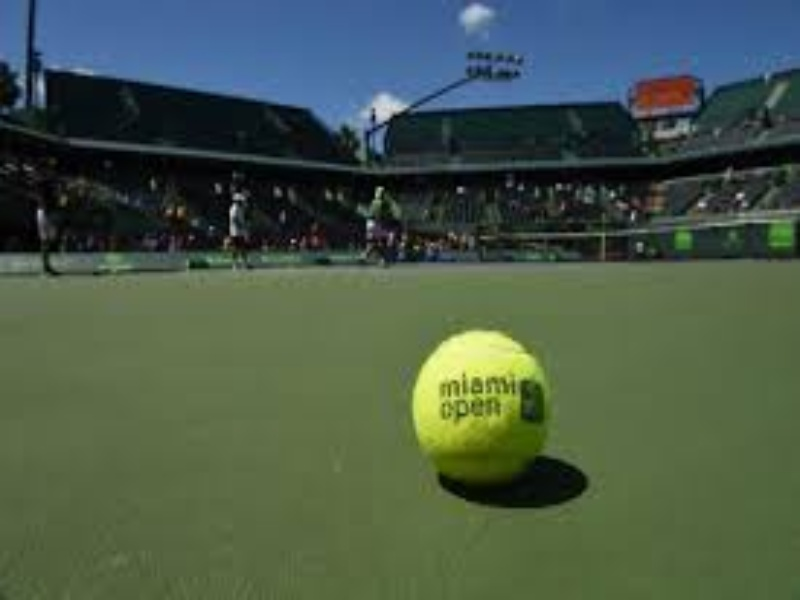tennis ball: (407, 323, 580, 494)
